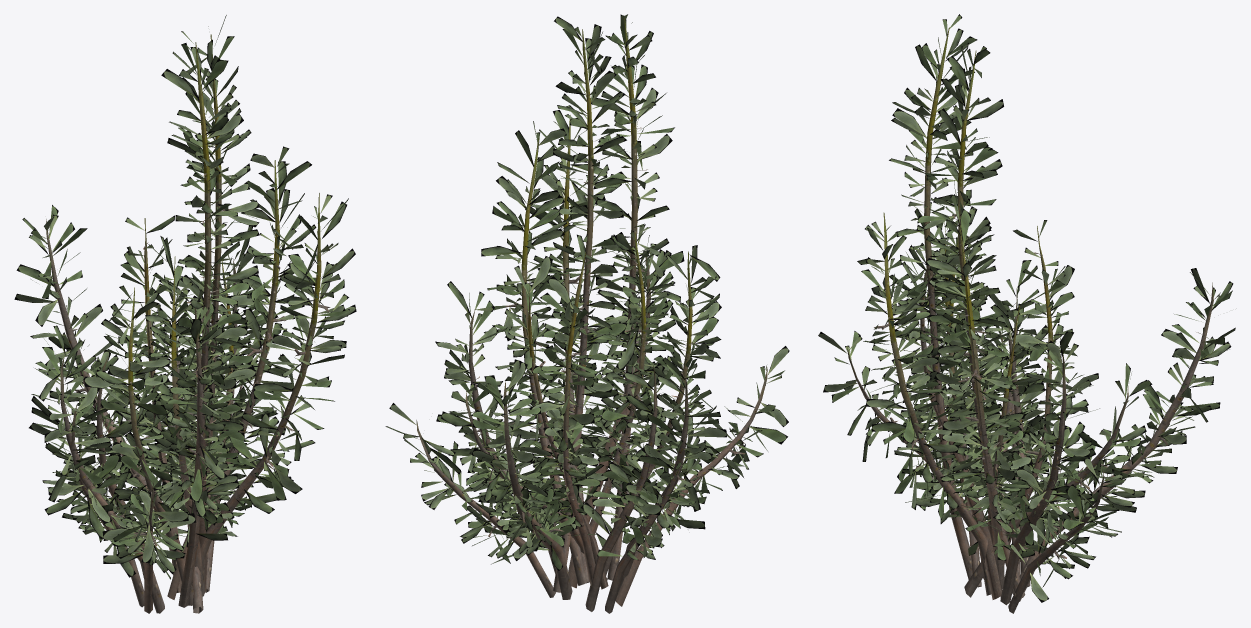
Rendered from othonna.glb.
3 views of the same model, side by side, from view 1: azimuth 30°, elevation 25°; view 2: azimuth 150°, elevation 25°; view 3: azimuth 270°, elevation 25° (orthographic). The views are drawn at different scales.
Visible parts, largest first — view 1: othonna; view 2: othonna; view 3: othonna.
Boxes of the visible parts, left/top/right/bottom form: othonna: left=14, top=15, right=356, bottom=613; othonna: left=385, top=14, right=789, bottom=613; othonna: left=818, top=14, right=1235, bottom=613.
Bounding box in the file's own units: 0.7203 × 1.43 × 0.9466.
1 material, 1 textured.
